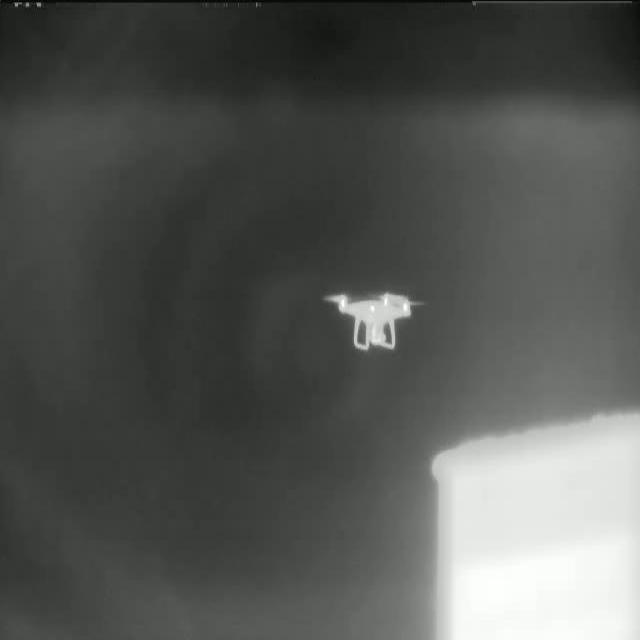DRONE: (322, 287, 429, 351)
